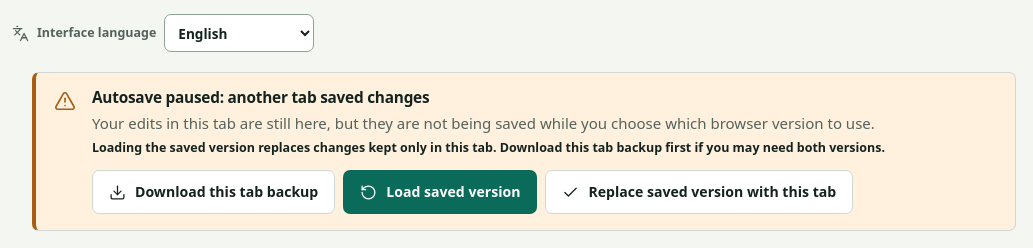
Test: StorageConflictBanner › localizes the destructive-version warning and recovery actions
Select "Simplified Chinese" in the dropdown. click: (239, 33)
box: [164,14,314,52]
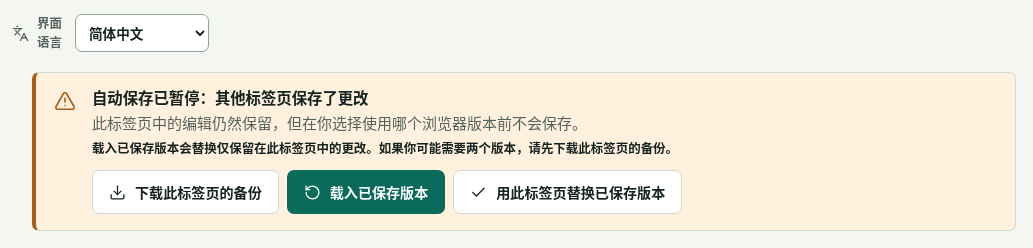
expect the button "下载此标签页的备份" is shown: met, box [92,170,279,214]
expect the button "载入已保存版本" is shown: met, box [287,170,445,214]
expect the button "用此标签页替换已保存版本" is shown: met, box [453,170,682,214]
